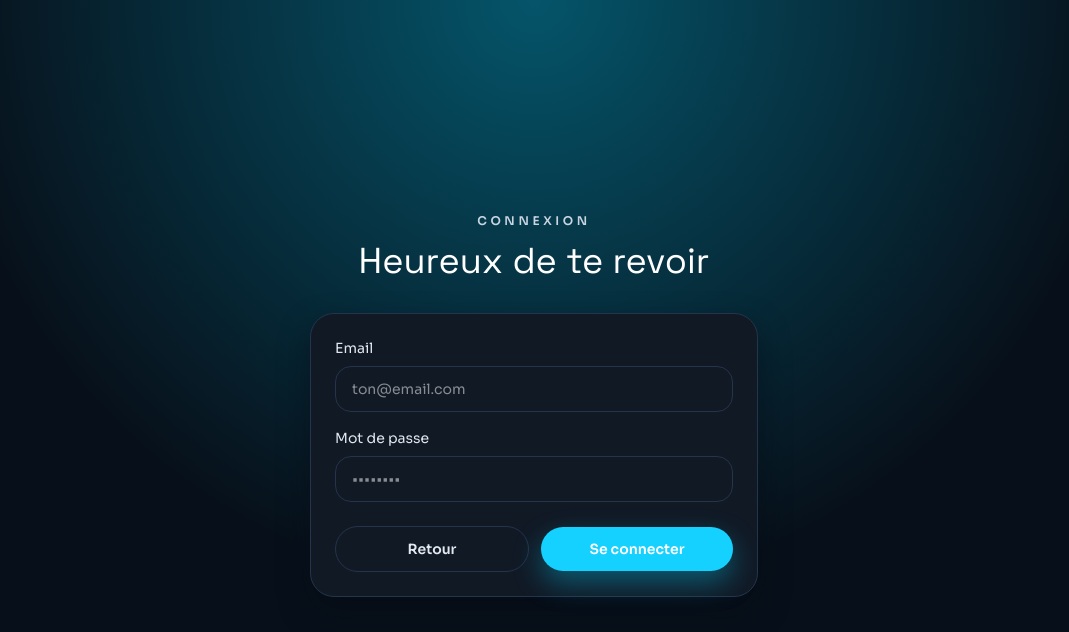
Test case: ConnexionPage › shows the fallback error when login fails without a response body
Type "manu@example.com" into the field labelled "Email" at (534, 389), box [335,366,733,412]
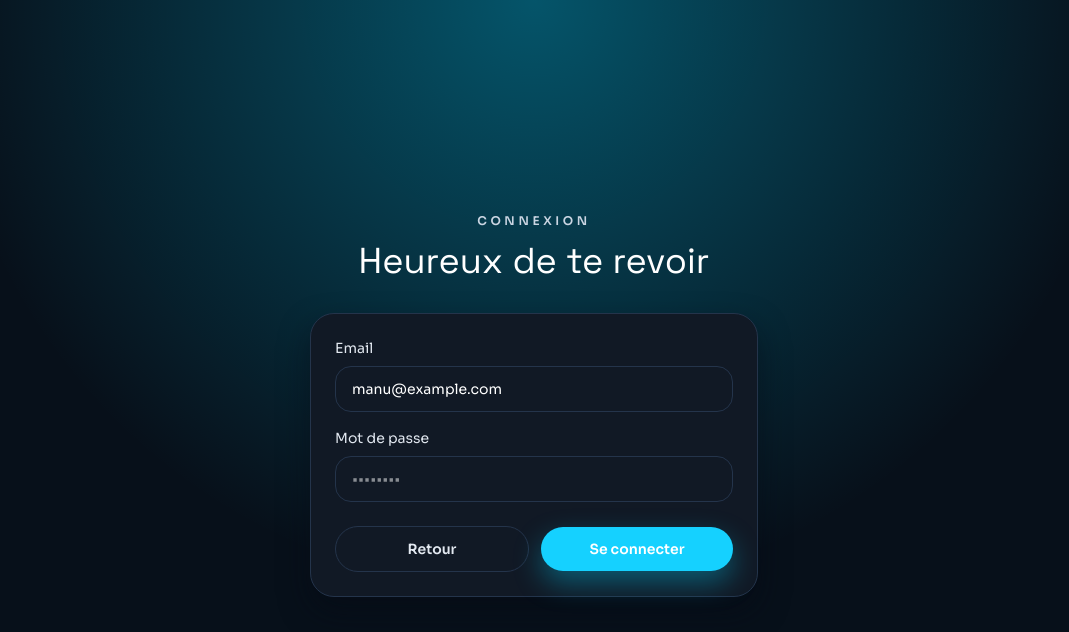
Type "bad-password" into the password field labelled "Mot de passe" at (534, 479), box [335,456,733,502]
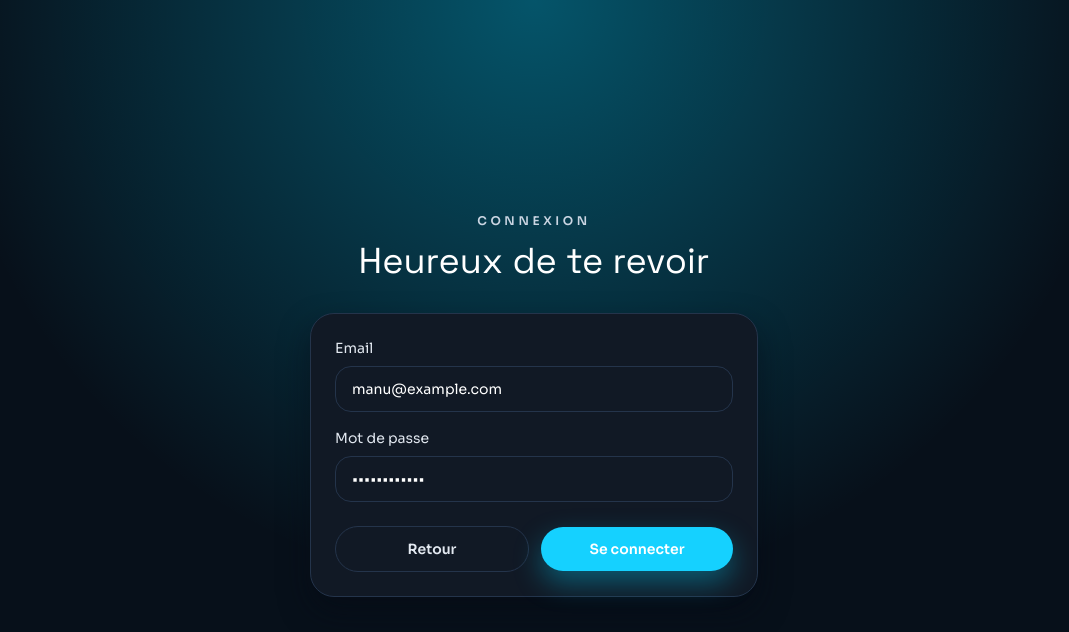
Click the button "Se connecter" at (637, 549), box [541,527,733,571]
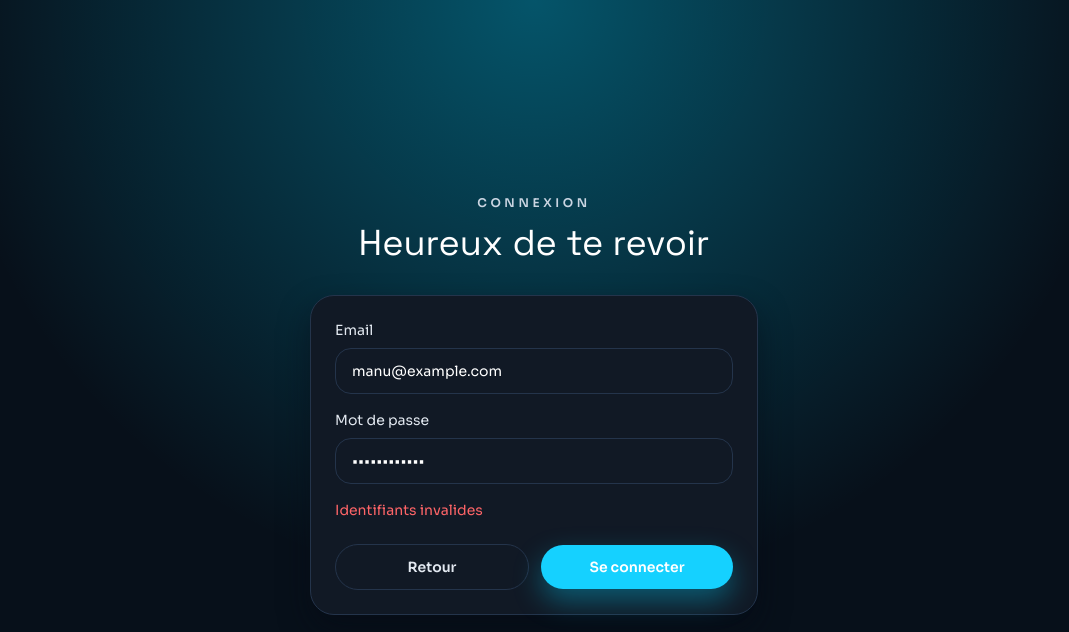
Check: the text "Identifiants invalides" is shown, box [335,501,483,519]
